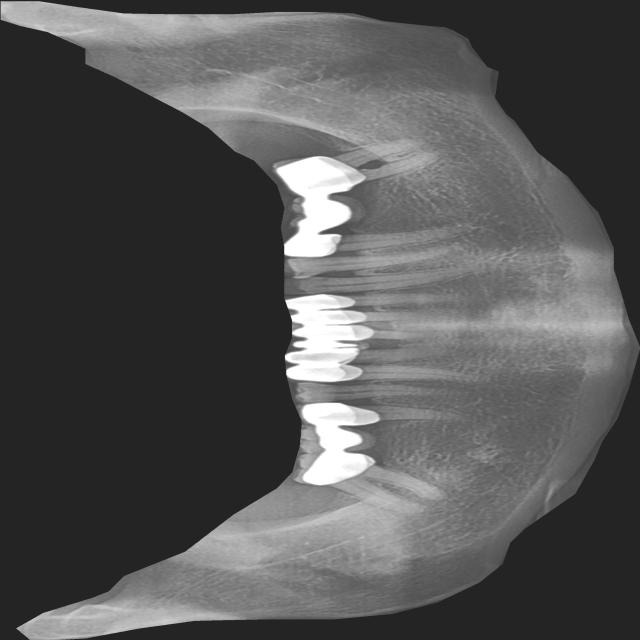mandibula: (1, 0, 640, 640)
